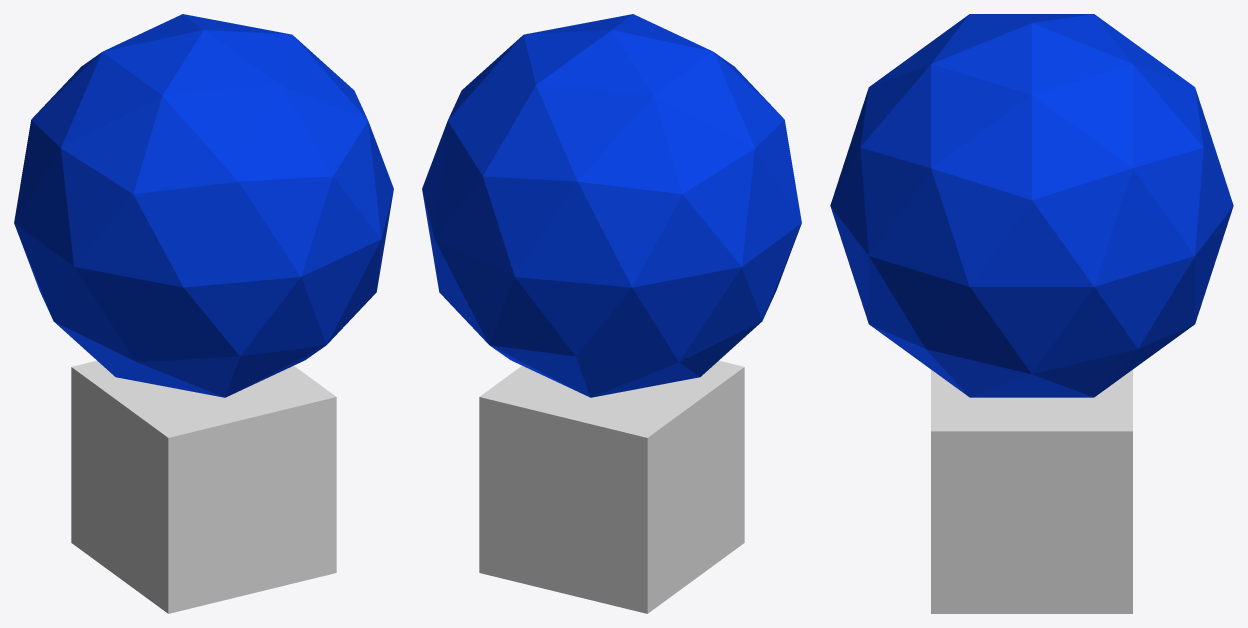
File: light_animation.glb
3 views of the same model, side by side, from view 1: azimuth 30°, elevation 25°; view 2: azimuth 150°, elevation 25°; view 3: azimuth 270°, elevation 25° (orthographic). The views are drawn at different scales.
Visible parts, largest first — view 1: Icosphere, Cube; view 2: Icosphere, Cube; view 3: Icosphere, Cube.
Boxes of the visible parts, bbox=[...] form: Icosphere: bbox=[14, 14, 393, 397]; Cube: bbox=[71, 360, 336, 613]; Icosphere: bbox=[422, 14, 801, 397]; Cube: bbox=[479, 360, 744, 613]; Icosphere: bbox=[830, 14, 1233, 397]; Cube: bbox=[931, 369, 1132, 613].
Bounding box in the file's own units: 1.9 × 3 × 2.
